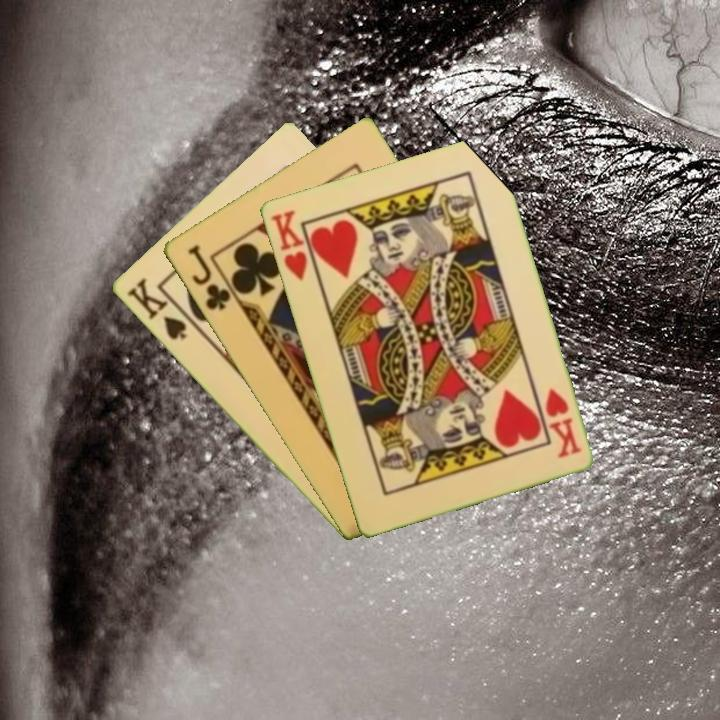Jc: (183, 241, 233, 313)
Kh: (266, 206, 320, 284), (541, 384, 584, 461)
Ks: (122, 274, 189, 343)
